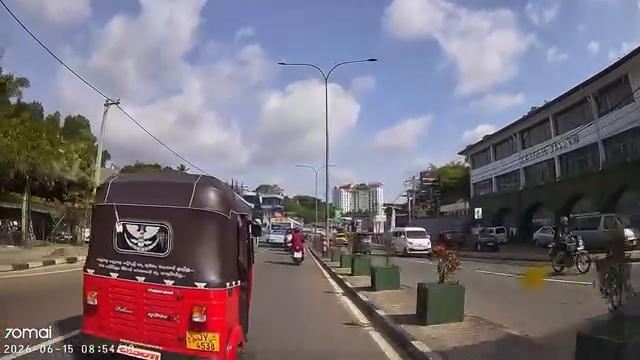number plate: (179, 329, 228, 355)
